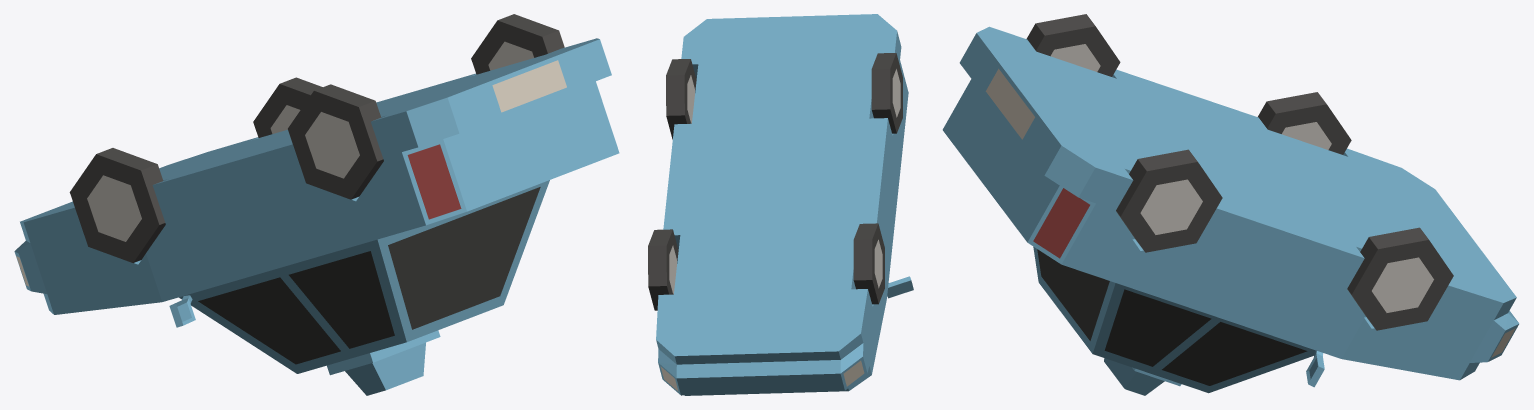
The model's file is 12 Car3.FBX.
3 views of the same model, side by side, from view 1: azimuth 30°, elevation 25°; view 2: azimuth 150°, elevation 25°; view 3: azimuth 270°, elevation 25° (orthographic). The views are drawn at different scales.
Visible parts, largest first — view 1: Car5; view 2: Car5; view 3: Car5.
Part boxes in pixels (bbox=[...]): Car5: bbox=[14, 14, 619, 395]; Car5: bbox=[648, 14, 913, 395]; Car5: bbox=[942, 14, 1519, 395].
Size of the model in its own units: 829 by 681 by 1041.
